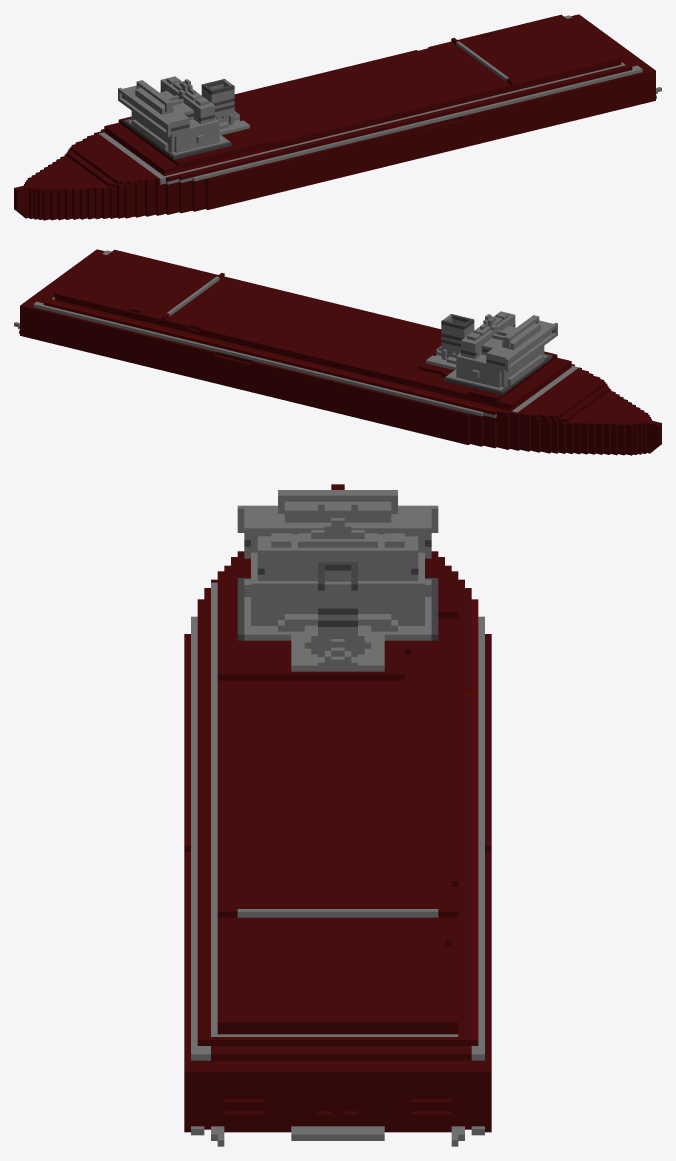
Rendered from Hunter.vox.obj.
3 renders of one model, top to bottom at view 1: azimuth 30°, elevation 25°; view 2: azimuth 150°, elevation 25°; view 3: azimuth 270°, elevation 25°, orthographic. The views are drawn at different scales.
Bounding box in the file's own units: 21.3 × 3.2 × 4.6.
Materials: 1 (1 with a texture image).
